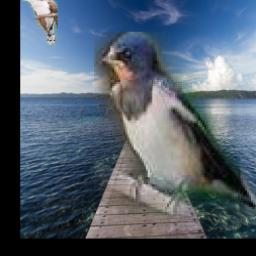Cuckoo: (23, 0, 59, 46)
Swallow: (94, 33, 256, 216)
